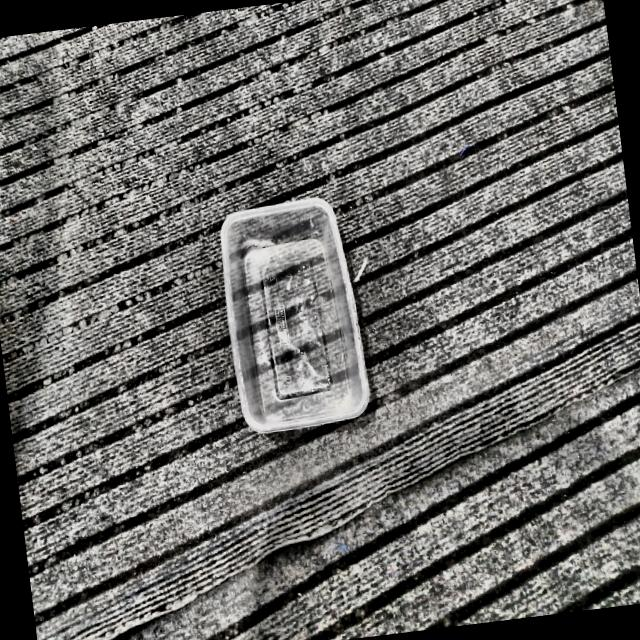plastic container: (220, 198, 369, 433)
